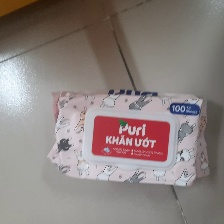Puri hong: (45, 90, 213, 187)
